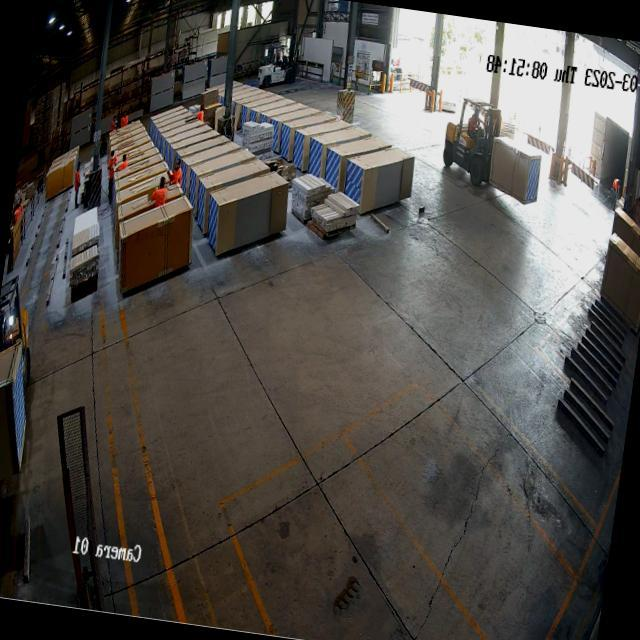driver: (466, 109, 482, 142)
forklift: (436, 88, 504, 195), (256, 40, 298, 93)
person: (150, 174, 169, 210), (167, 154, 184, 188), (106, 150, 118, 184), (610, 176, 622, 207), (73, 161, 83, 194), (118, 153, 129, 171), (196, 104, 206, 122)
